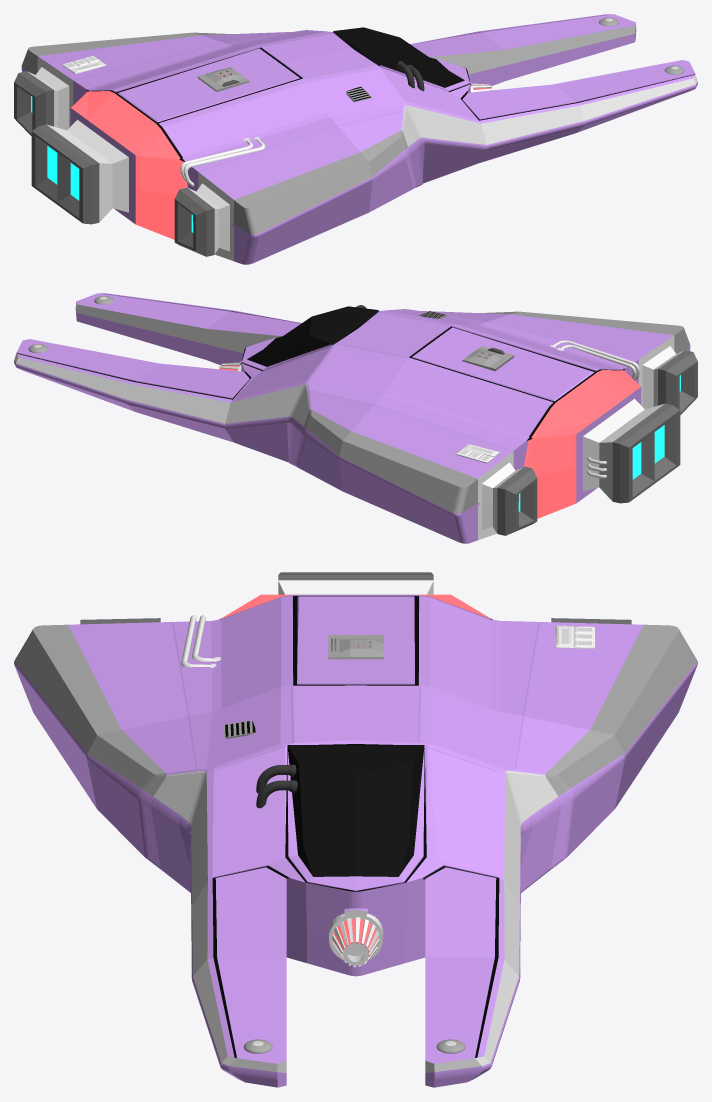
File: FastShip.fbx
3 views of the same model, one above another, from view 1: azimuth 30°, elevation 25°; view 2: azimuth 150°, elevation 25°; view 3: azimuth 270°, elevation 25° (orthographic). The views are drawn at different scales.
Parts seen in each view (by area): view 1: SpaceShip, Cube, Cylinder.002; view 2: SpaceShip, Cube; view 3: SpaceShip, Cylinder, Cube.
Part boxes in pixels (box(x1,y1,x2,y2)): SpaceShip: box(14, 14, 697, 264); Cube: box(197, 67, 249, 92); Cylinder.002: box(183, 137, 265, 186); SpaceShip: box(14, 293, 697, 543); Cube: box(462, 346, 514, 371); SpaceShip: box(14, 572, 697, 1087); Cylinder: box(328, 908, 383, 967); Cube: box(328, 635, 383, 659).
Size of the model in its own units: 3697 by 653 by 2466.
